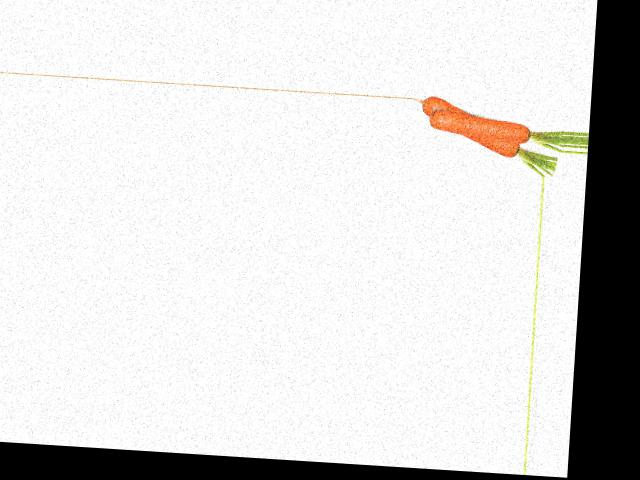carrot: (411, 97, 531, 158)
